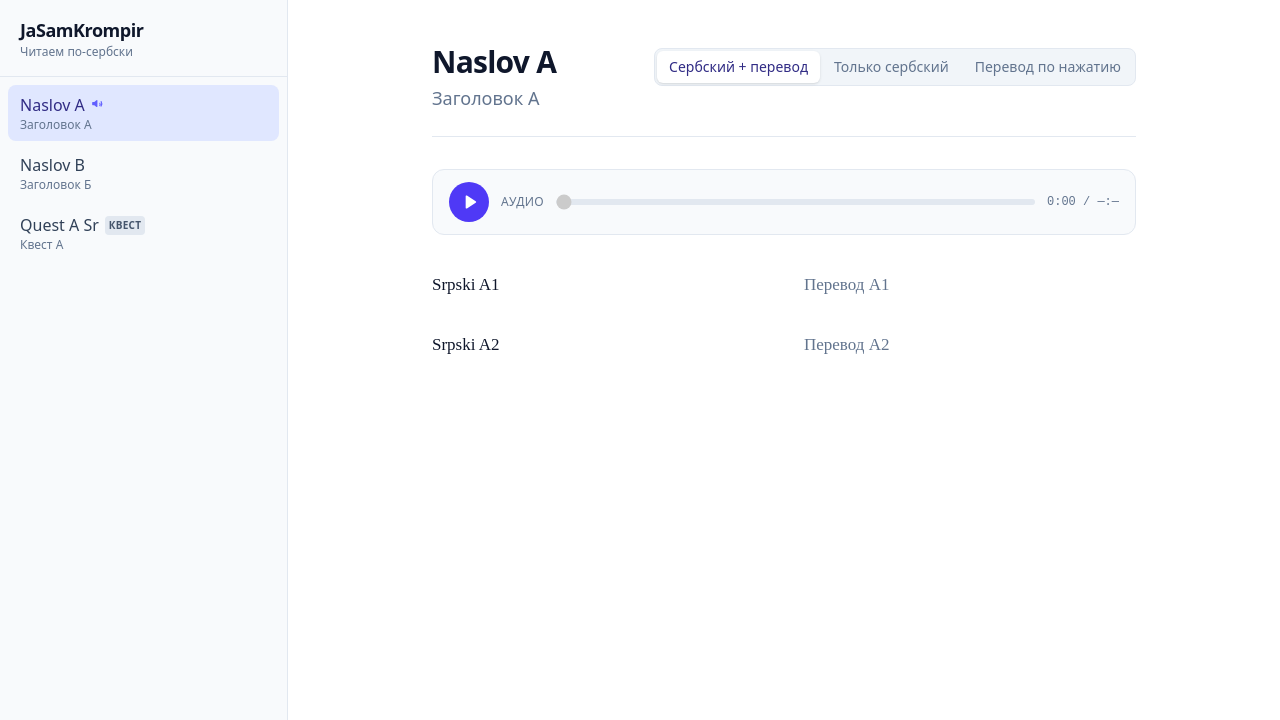
Scenario: App › keeps the chosen reading mode when switching to another text
The width and height of the screenshot is (1280, 720).
Expected: the text "Srpski A1" is shown, [432,275,500,294]
# Pick "Serbian only" while reading the first text.
Click the button "Только сербский" at (891, 67), box [822,51,961,83]
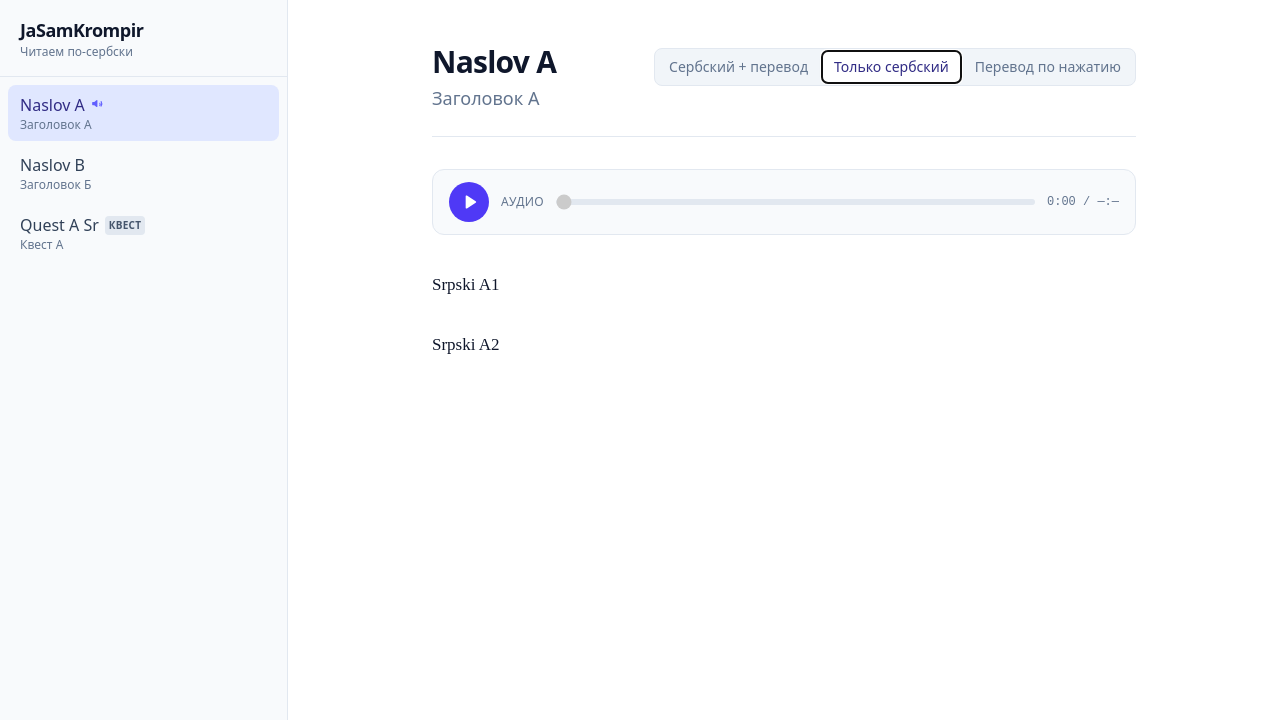
Result: the text "Перевод A1" is gone
# Open the second text.
Click the button "Naslov B Заголовок Б" at (52, 165), box [8,145,279,201]
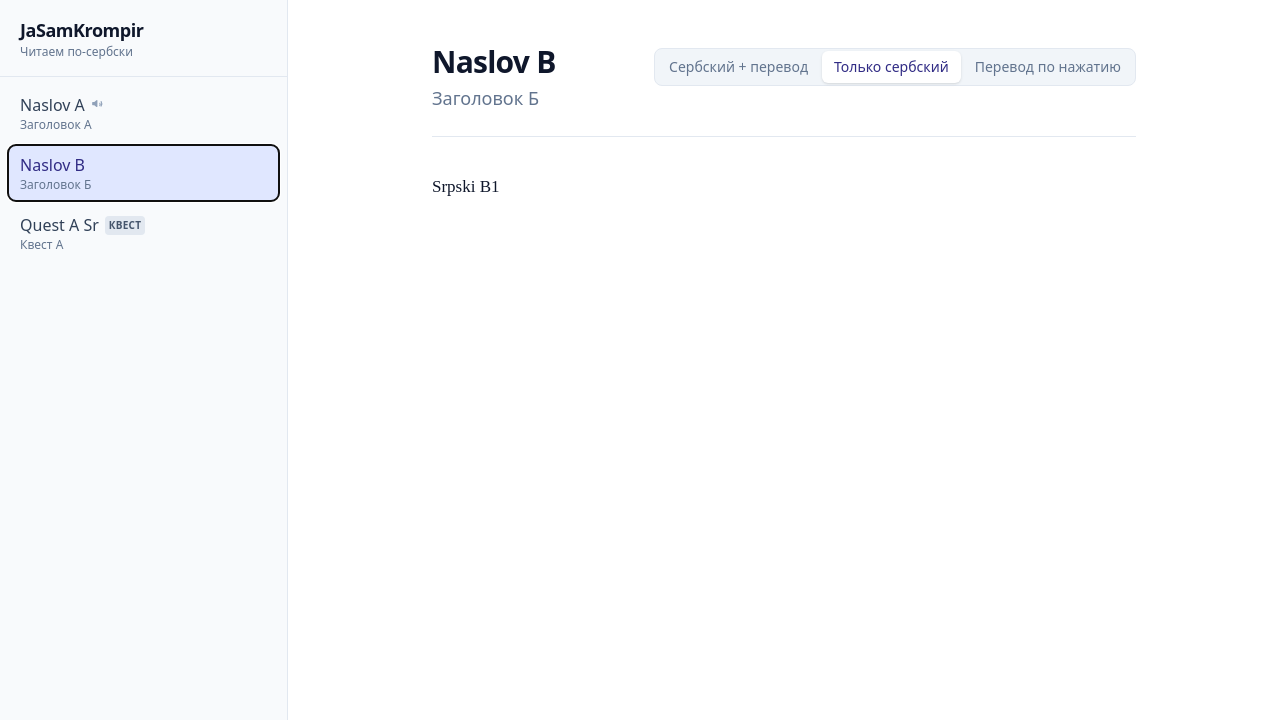
Result: the text "Srpski B1" is shown at [432,177,500,196]
